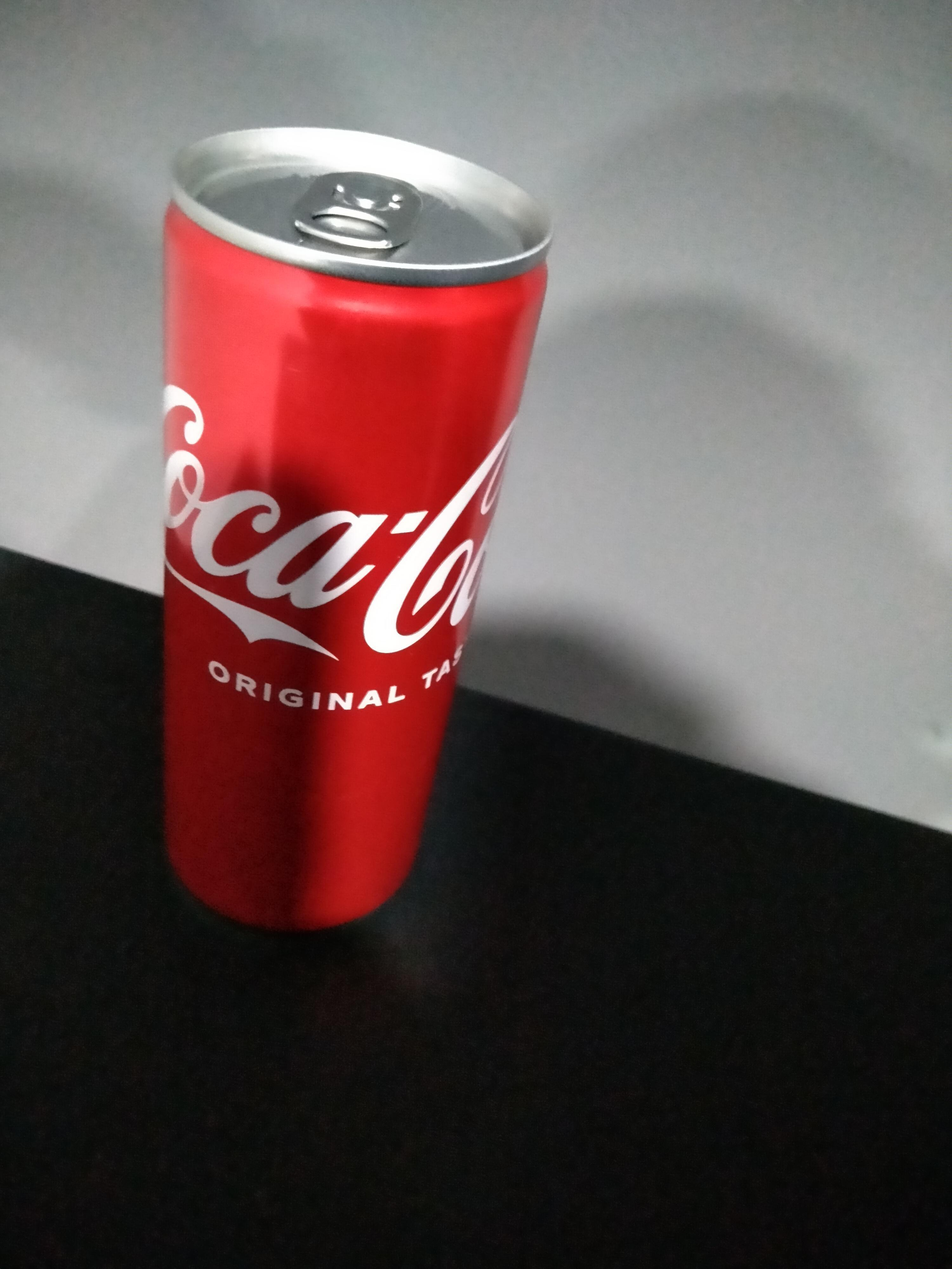tin can: (150, 122, 553, 923)
